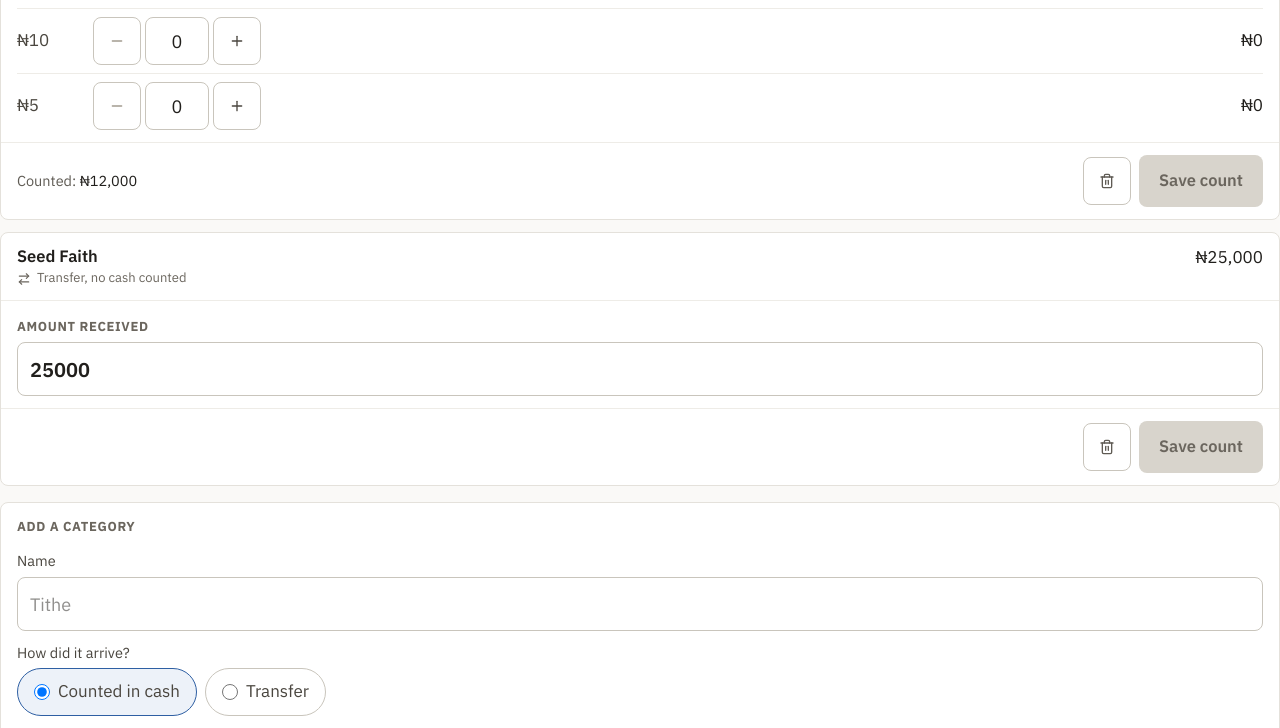
Test: an unreadable transfer amount › blocks finalize with the amount wording, not the Save count wording
This screenshot has width=1280, height=728.
(page scrolled)
Replace the text in the field labelled "Amount received" with "abc" at (640, 369), box [17,342,1263,396]
(page scrolled)
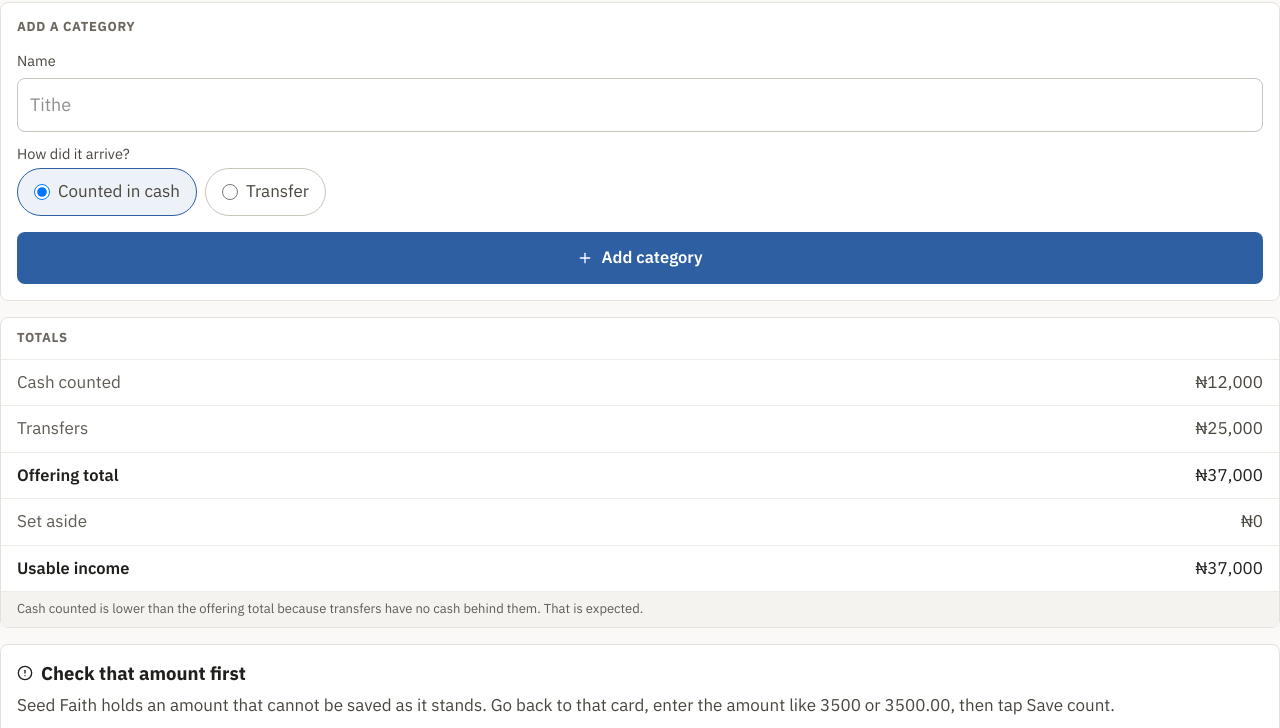
Check: the heading "Check that amount first" is shown, box [17,660,246,684]
Check: the element "first" shows "Seed Faith", box [17,694,97,716]
Check: the element "first" shows "holds an amount that cannot be saved as it stands", box [101,694,482,716]
